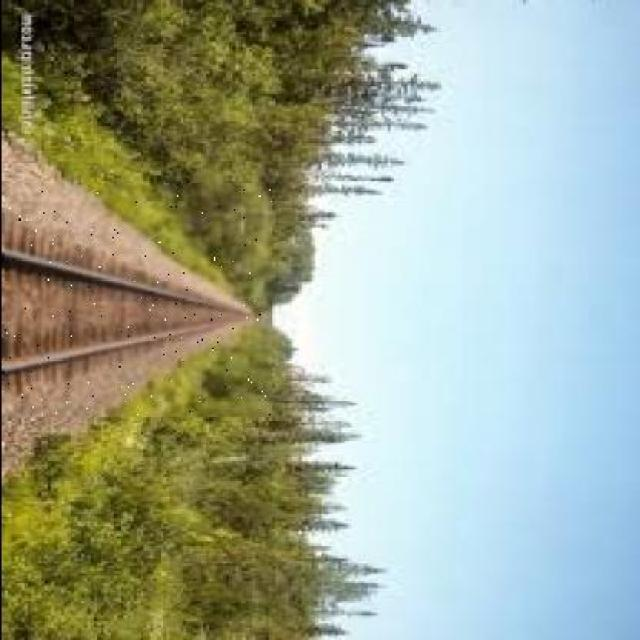rail: (4, 187, 272, 416)
